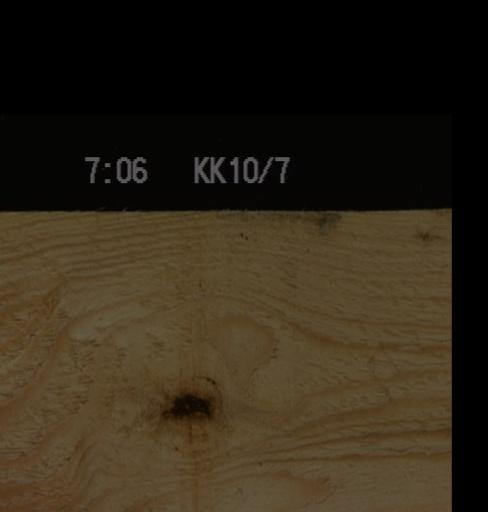small_knot: (413, 227, 436, 242)
